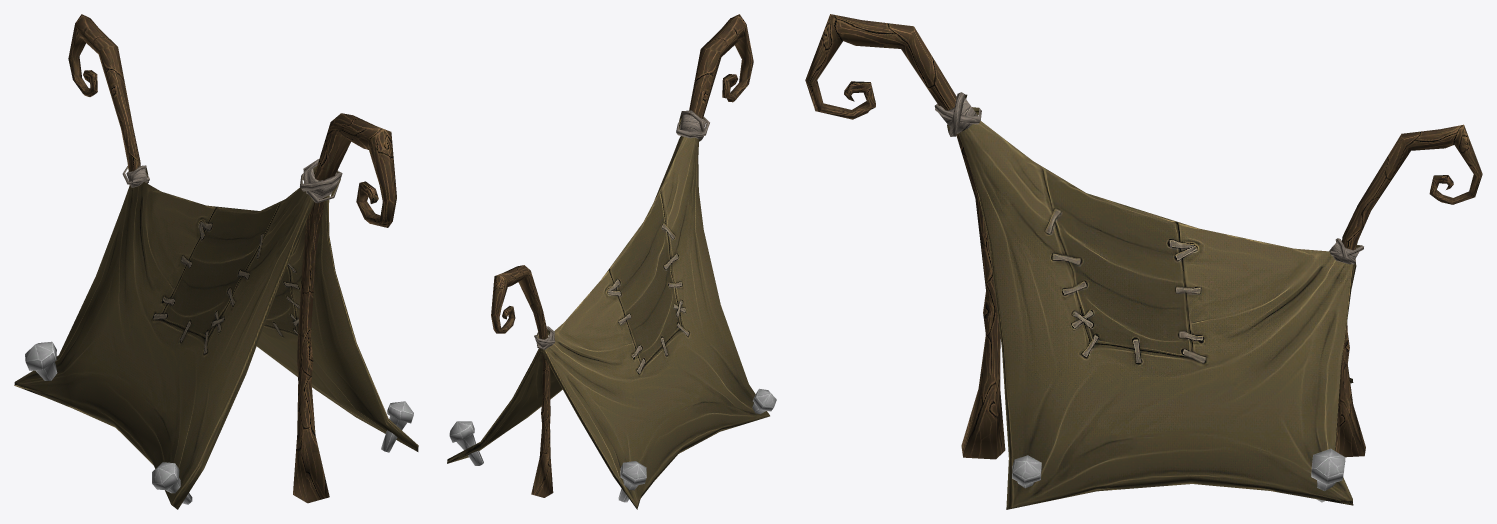
Rendered from tent1.fbx.
3 renders of one model, left to right at view 1: azimuth 30°, elevation 25°; view 2: azimuth 150°, elevation 25°; view 3: azimuth 270°, elevation 25°, orthographic. The views are drawn at different scales.
Parts seen in each view (by area): view 1: node_id7, node_id10; view 2: node_id7, node_id10; view 3: node_id7, node_id10.
Boxes of the visible parts, <box> form: node_id7: <box>14,14,418,509</box>; node_id10: <box>25,341,413,504</box>; node_id7: <box>447,14,769,509</box>; node_id10: <box>449,388,776,502</box>; node_id7: <box>805,14,1482,509</box>; node_id10: <box>1012,448,1345,502</box>.
Bounding box in the file's own units: 0.00344 × 0.00523 × 0.0073.
2 materials, 2 textured.
